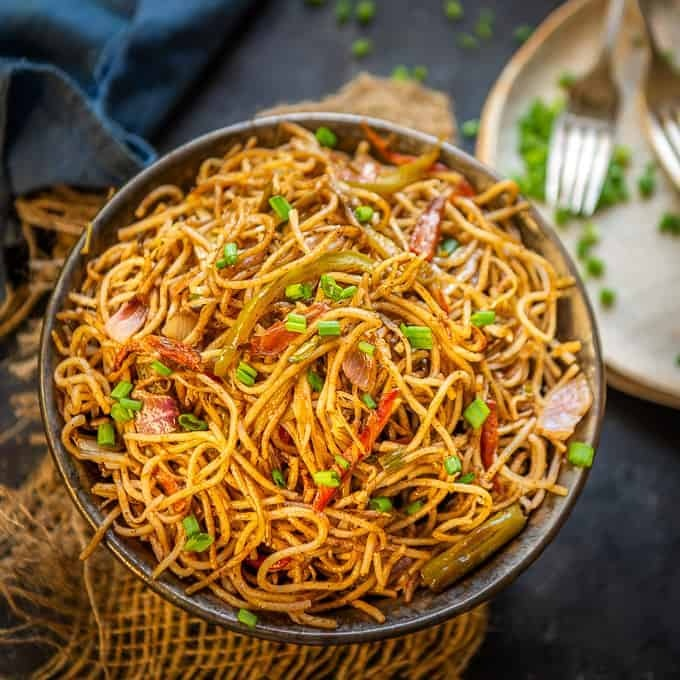mie_aceh: (51, 122, 598, 632)
